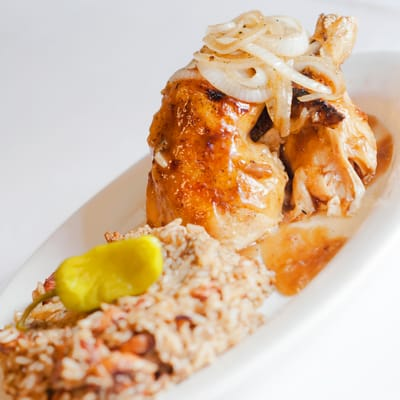sushi: (143, 7, 395, 298)
